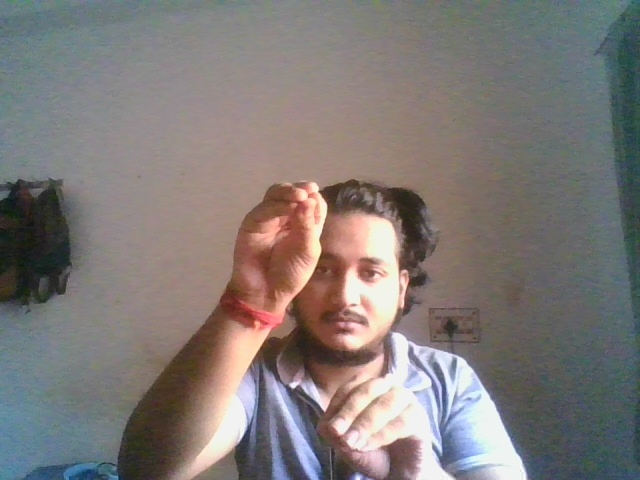Mouth: (317, 370, 438, 480), (231, 180, 329, 297)
